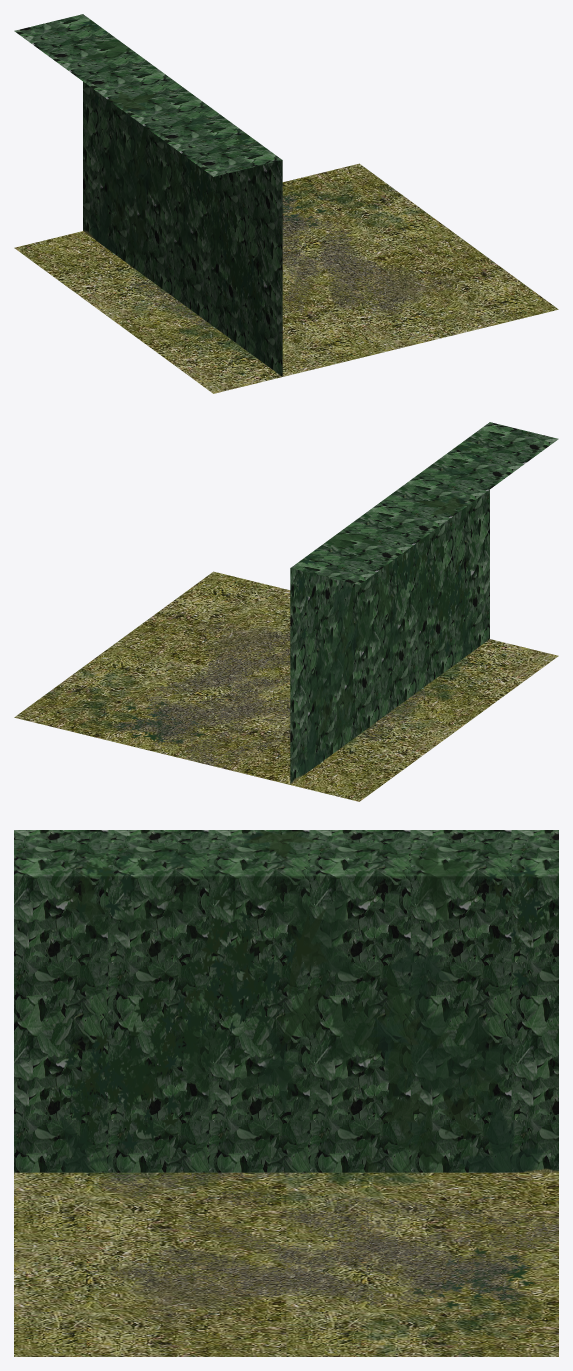
Rendered from 4-5_Long_Wall.fbx.
3 renders of one model, top to bottom at view 1: azimuth 30°, elevation 25°; view 2: azimuth 150°, elevation 25°; view 3: azimuth 270°, elevation 25°, orthographic. The views are drawn at different scales.
Visible parts, largest first — view 1: Floor1; view 2: Floor1; view 3: Floor1.
Boxes of the visible parts, x1,y1,x2,y2 form: Floor1: [14, 14, 558, 393]; Floor1: [14, 422, 558, 801]; Floor1: [14, 830, 558, 1356].
Size of the model in its own units: 100 by 60 by 100.
Materials: 1 (1 with a texture image).
